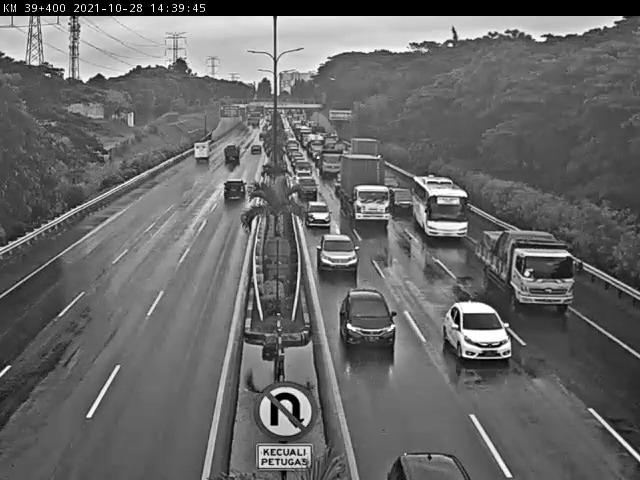big bus: (410, 165, 474, 246)
big truck: (336, 150, 392, 223), (348, 133, 385, 165)
car: (438, 296, 515, 369), (334, 287, 405, 355), (387, 447, 475, 480), (314, 231, 366, 283), (299, 199, 333, 232), (386, 185, 417, 219), (219, 179, 247, 205), (295, 173, 321, 200), (292, 168, 314, 186), (247, 140, 264, 162), (293, 157, 315, 172), (223, 143, 240, 162)
mid truck: (471, 214, 582, 318), (313, 147, 347, 179)
small truck: (192, 138, 212, 162)
